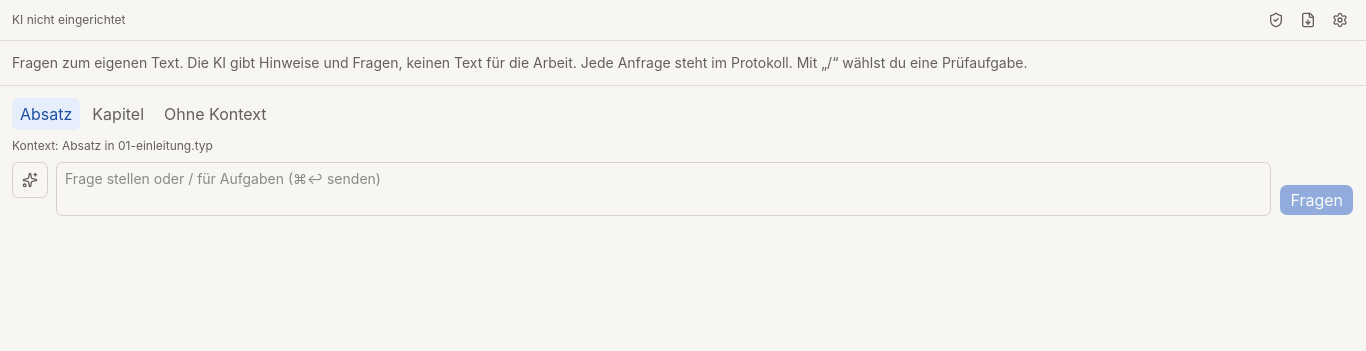
it: Assistant › schickt den Absatz als Kontext und zeigt die Antwort nur als Text
In the text box with placeholder "Frage stellen oder / für Aufgaben (⌘↩ senden)": (664, 189) [56,162,1271,216], type "Ist das klar?"
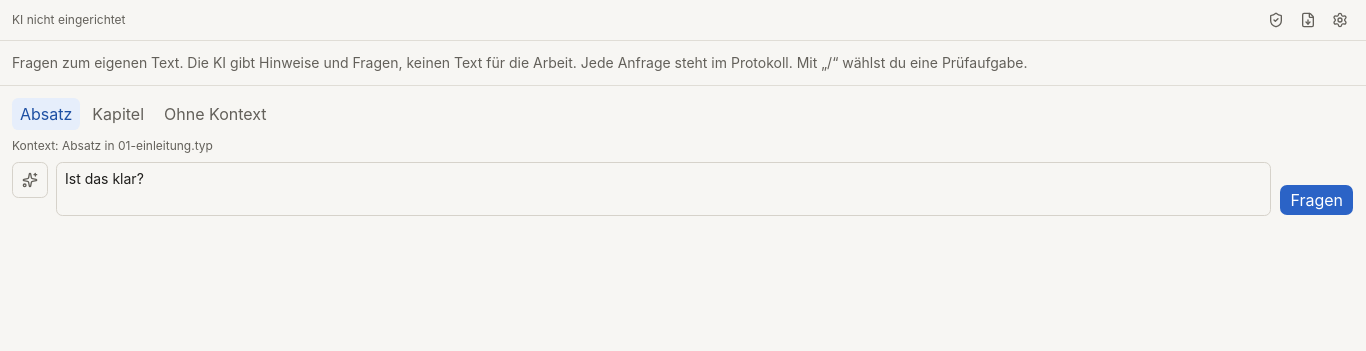
Click the button "Fragen": (1317, 200) [1279,184,1354,216]
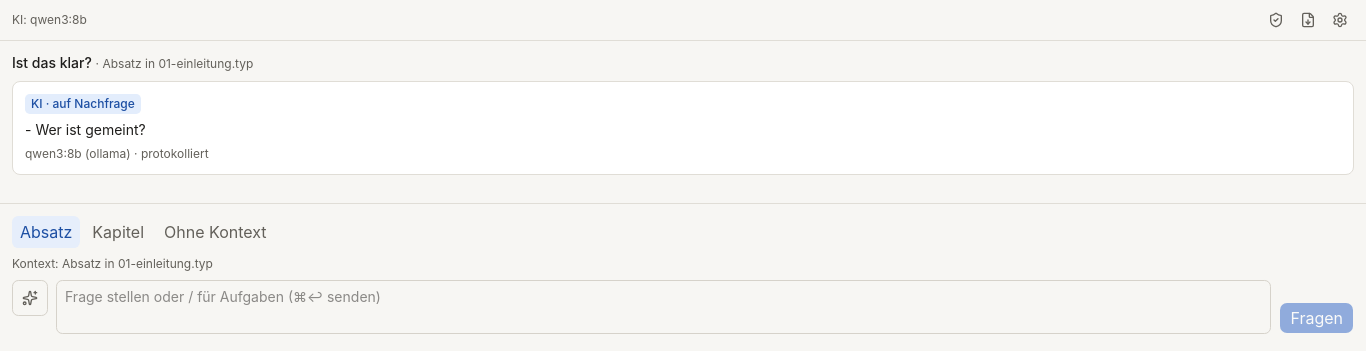
Expected: the text "- Wer ist gemeint?" is shown, [25,121,146,138]
